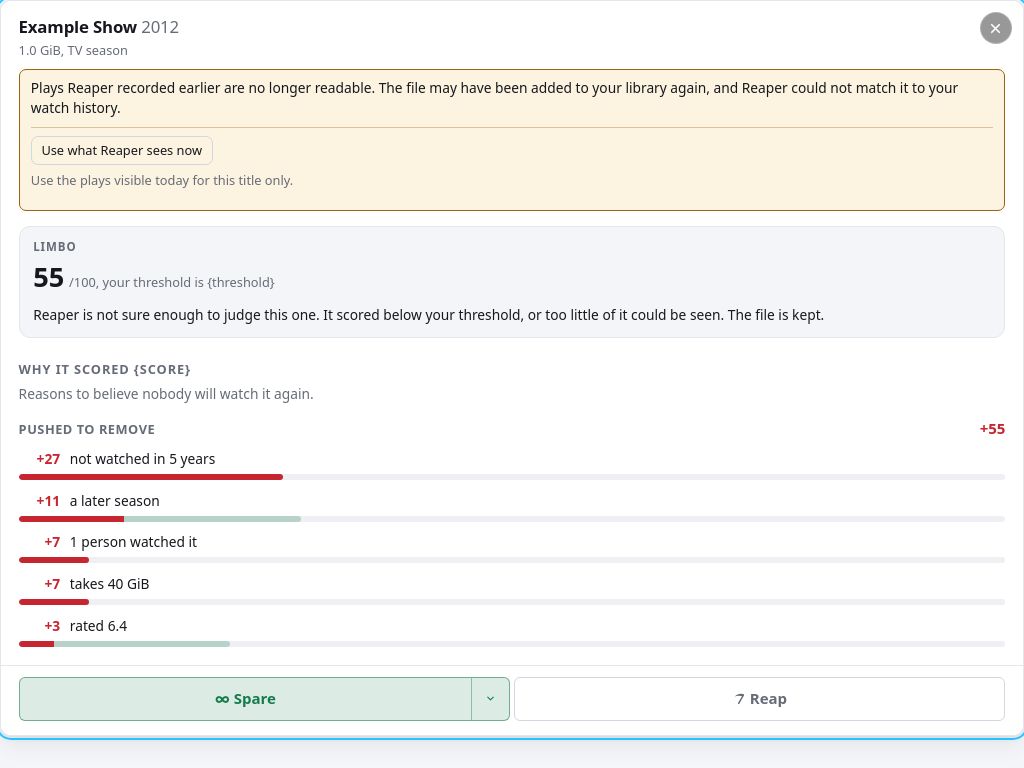
the watch-record escape › forgets the record under this item's own key
Click the button "Use what Reaper sees now".
click(122, 150)  # box left=31, top=136, right=213, bottom=165
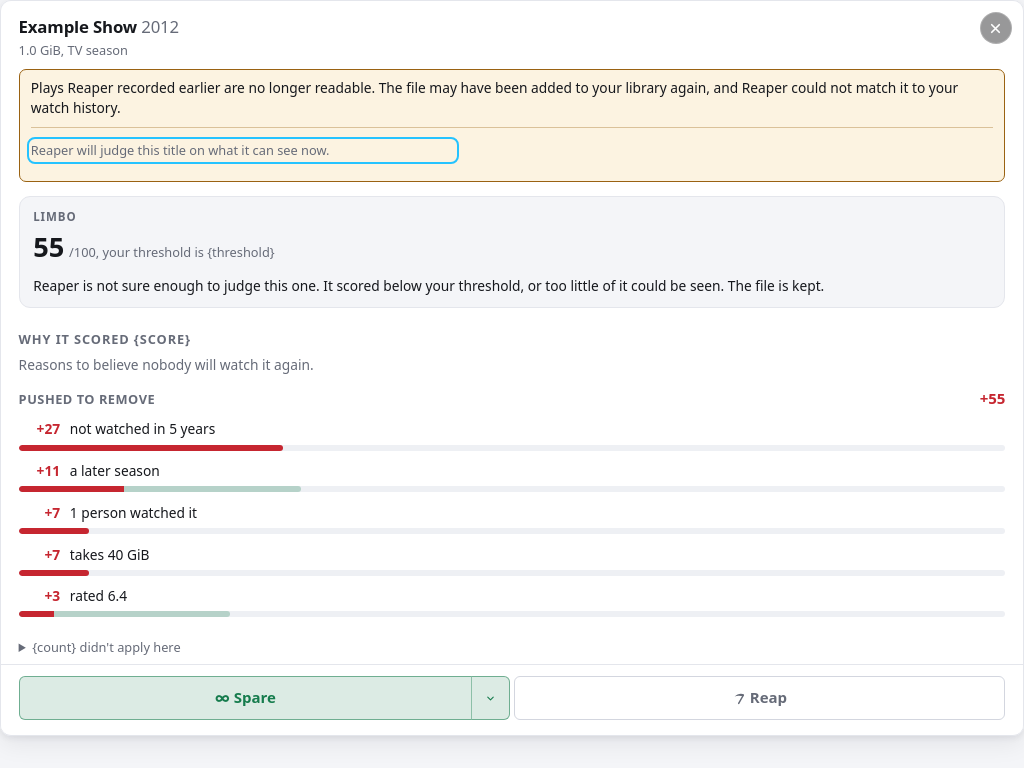
Check: the text "Reaper will judge this title on what it can see now." is shown, box left=31, top=141, right=330, bottom=159
Check: the button "Use what Reaper sees now" is gone
